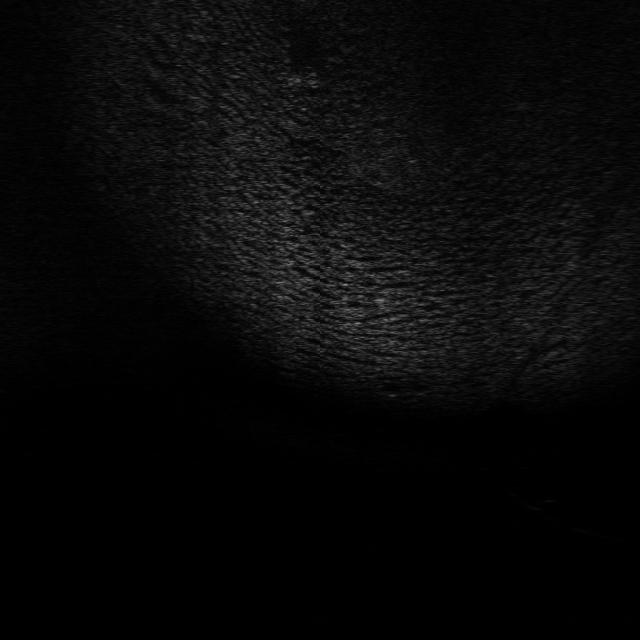plane: (280, 67, 322, 90)
